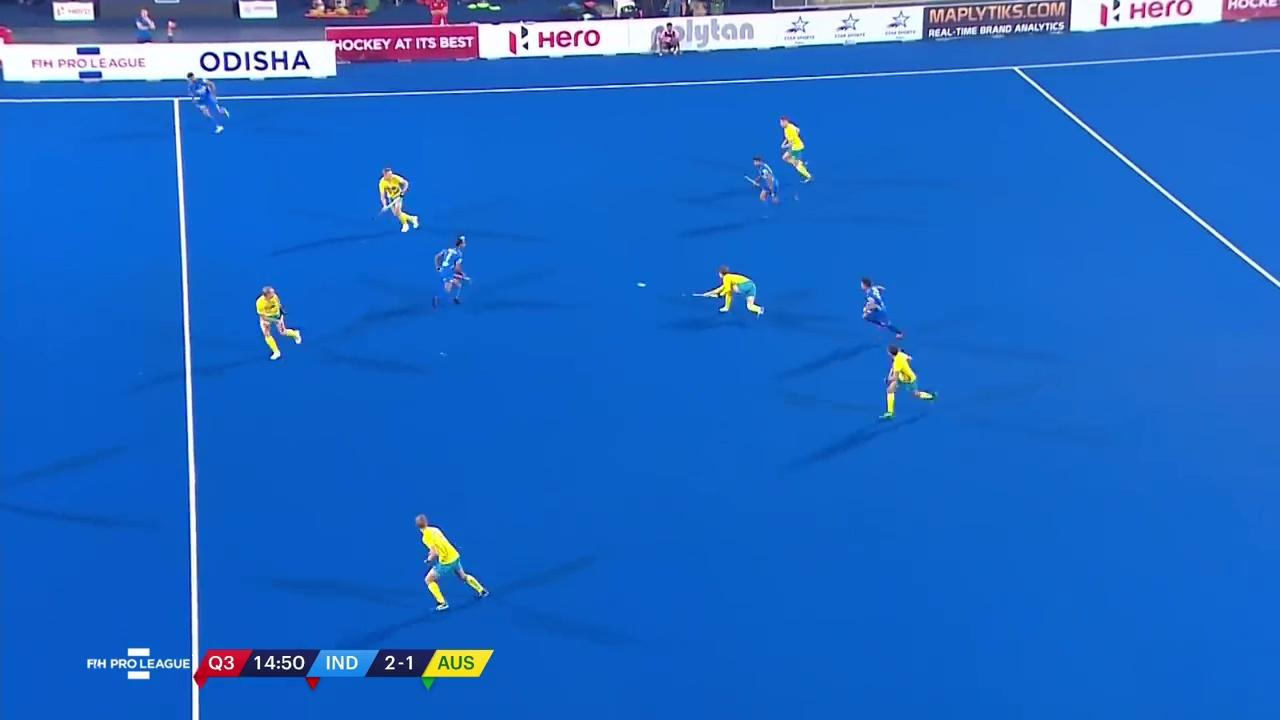ball: (634, 278, 650, 293)
